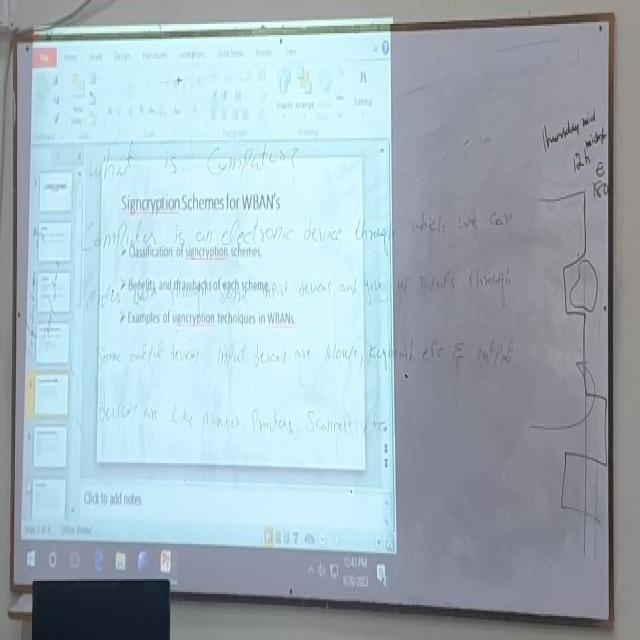Slide: (21, 24, 398, 597)
White-board: (11, 19, 611, 626)
